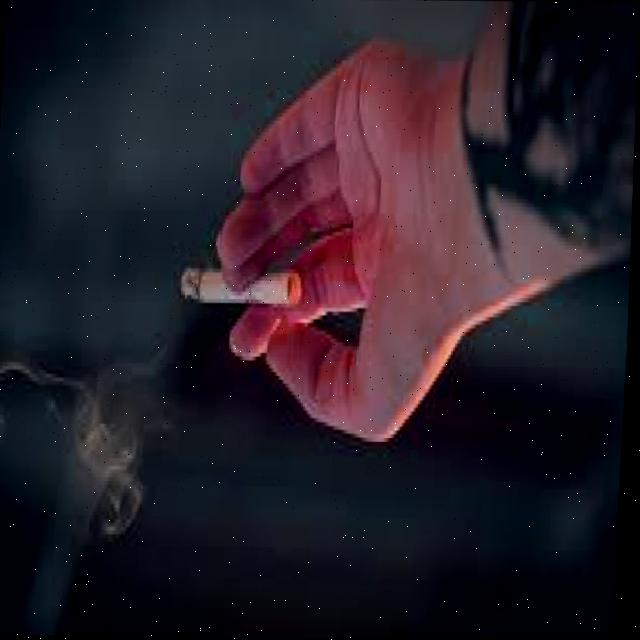cigarette: (176, 263, 303, 306)
